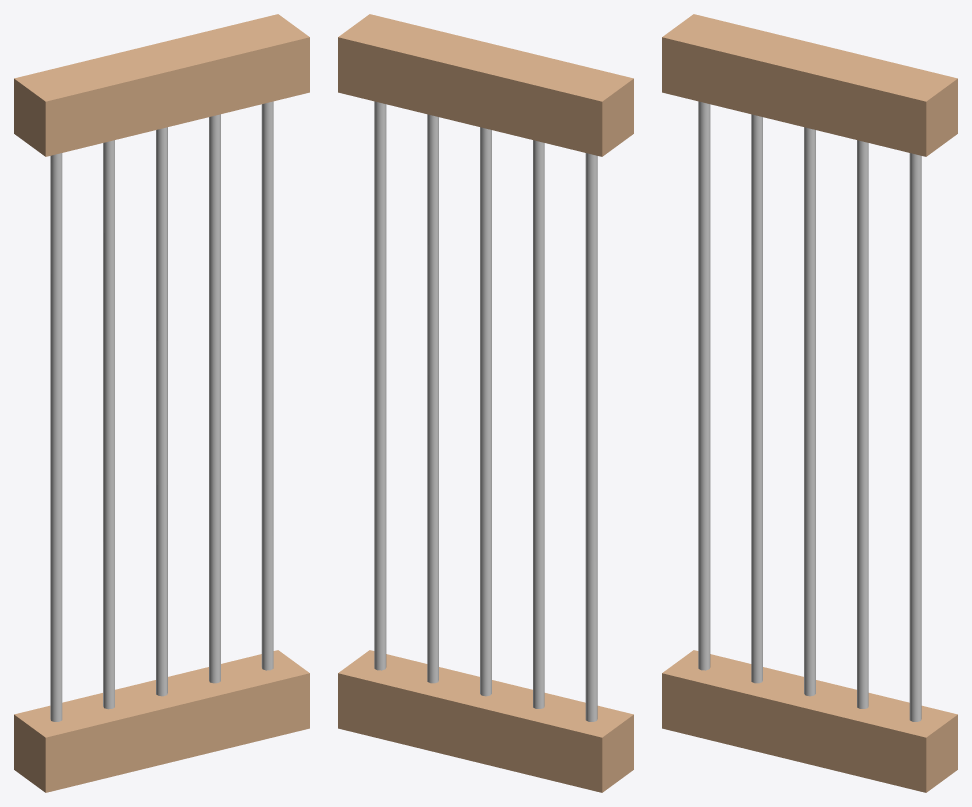
Rendered from jail_bars.glb.
3 renders of one model, left to right at view 1: azimuth 30°, elevation 25°; view 2: azimuth 150°, elevation 25°; view 3: azimuth 330°, elevation 25°, orthographic.
Visible parts, largest first — view 1: JailBars; view 2: JailBars; view 3: JailBars.
Part boxes in pixels (left/top/right/bottom): JailBars: left=14, top=14, right=309, bottom=792; JailBars: left=338, top=14, right=633, bottom=792; JailBars: left=662, top=14, right=957, bottom=792.
Size of the model in its own units: 1 by 2.5 by 0.208.
